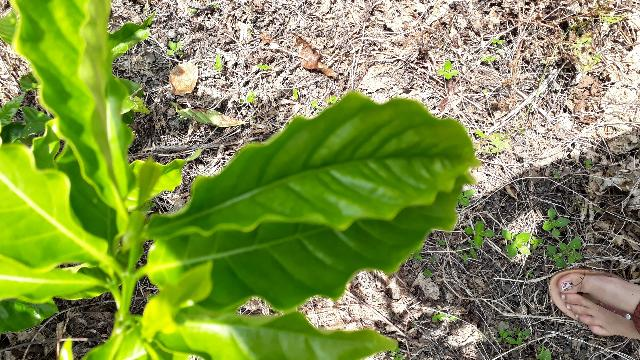healthy: (144, 92, 478, 236)
